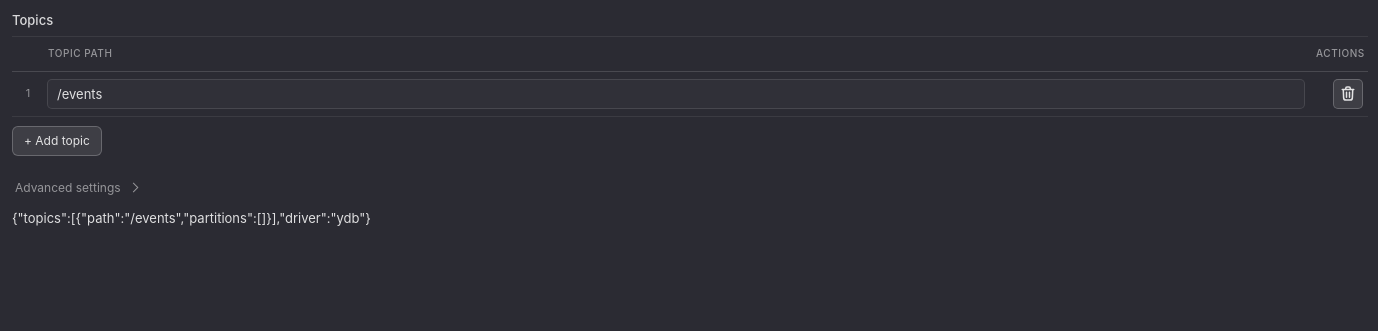
Test case: schema form › shows partition IDs only when explicit partition selection is enabled
Expected: the text "Partition IDs" is not shown
Click the heading "Advanced settings": (68, 187) [15,180,121,195]
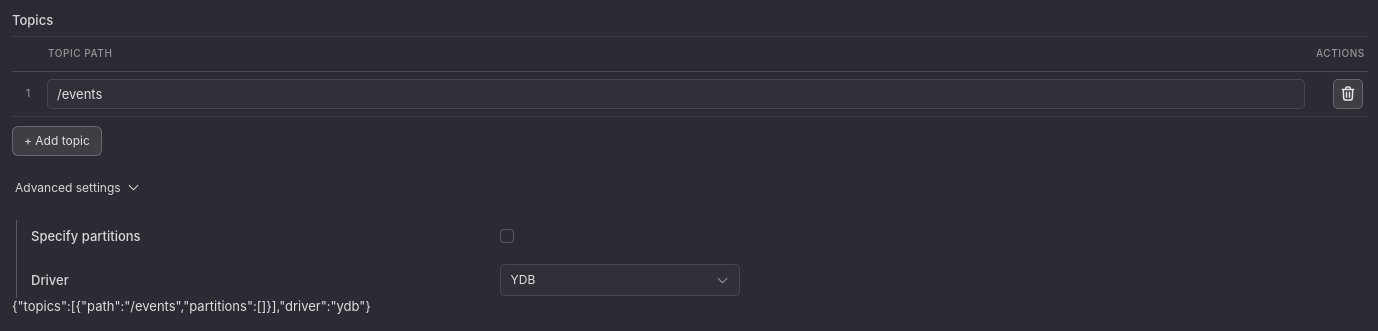
Click the checkbox named "Specify partitions": (507, 236) [500,229,514,243]
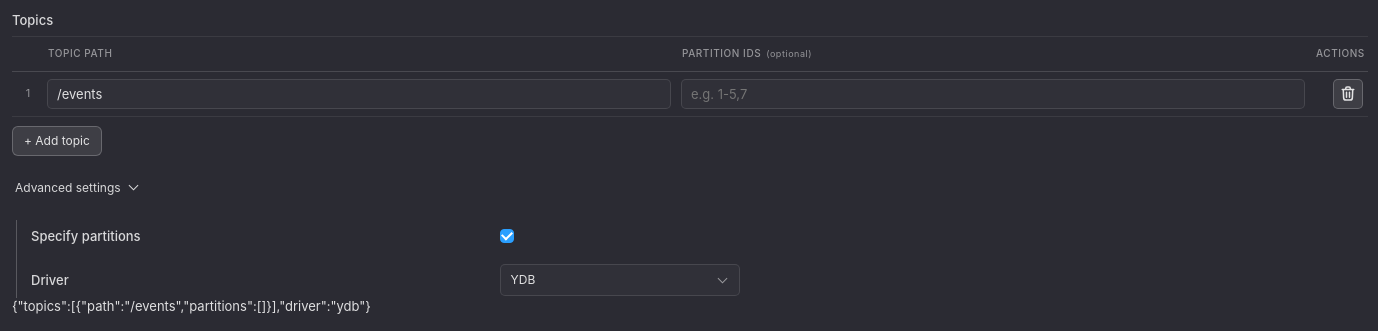
In the field with placeholder "e.g. 1-5,7": (993, 94) [681,79,1305,109], type "1-3"
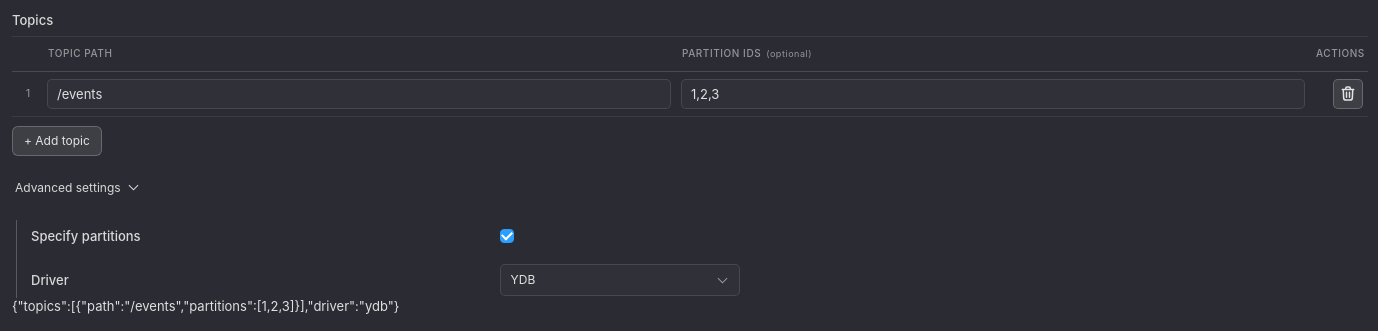
Expected: the text with test id "partition-config" shows "\"partitions\":[1,2,3]", [12,298,399,314]
Click the checkbox named "Specify partitions": (507, 236) [500,229,514,243]
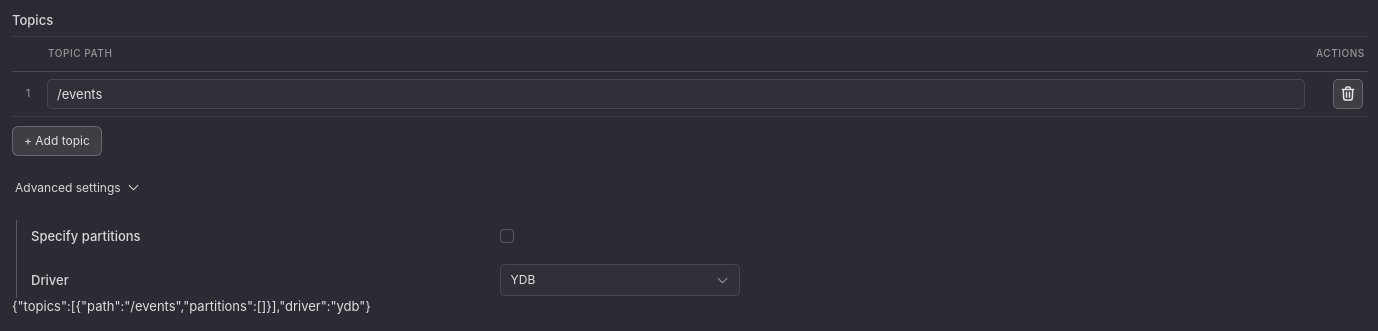
Expected: the text "Partition IDs" is gone
Expected: the text with test id "partition-config" shows "\"partitions\":[]", [12,298,371,314]
